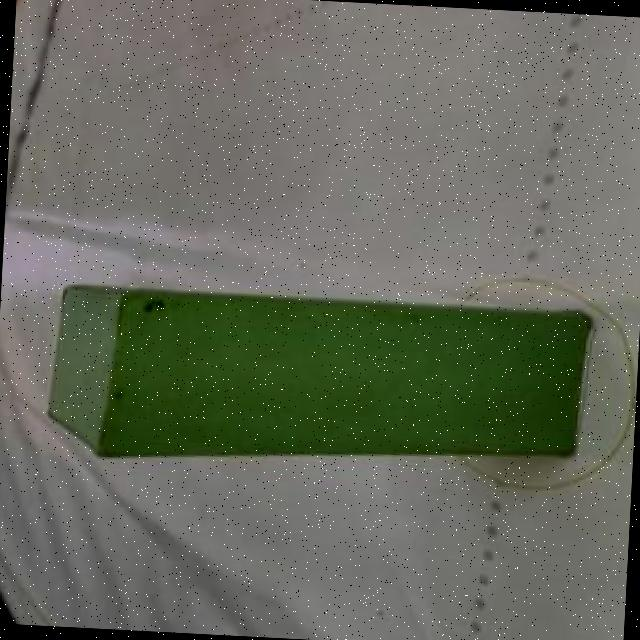greenbox: (40, 278, 598, 484)
